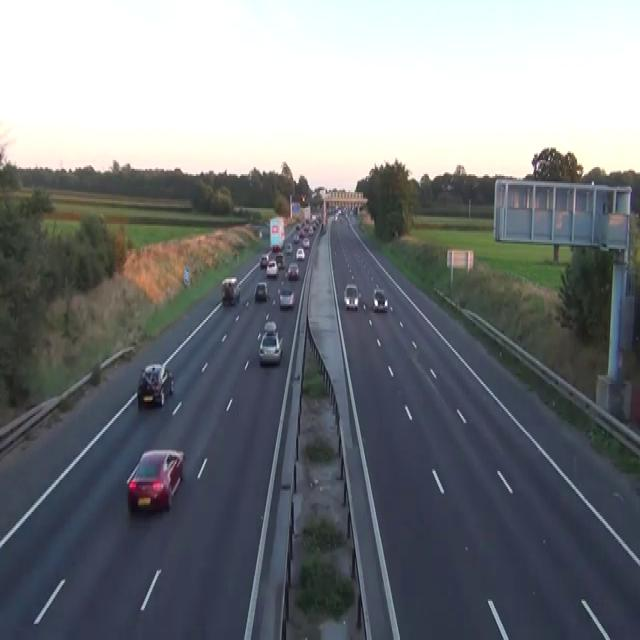Car: (126, 448, 185, 514), (137, 363, 173, 407), (258, 332, 283, 364), (221, 277, 240, 306), (343, 283, 359, 309), (372, 288, 388, 311), (278, 286, 294, 308), (254, 281, 267, 300), (286, 261, 299, 279), (266, 260, 278, 278), (263, 320, 277, 334), (275, 252, 283, 268), (259, 252, 268, 266), (295, 247, 304, 260), (270, 244, 280, 252), (320, 222, 327, 233), (302, 237, 309, 247), (446, 182, 454, 190), (286, 242, 292, 252), (300, 194, 306, 204), (308, 224, 313, 235), (293, 233, 299, 242), (298, 230, 304, 238), (295, 222, 300, 230), (441, 183, 446, 190), (333, 213, 337, 220), (259, 230, 262, 238)
Truck: (269, 215, 284, 249)
